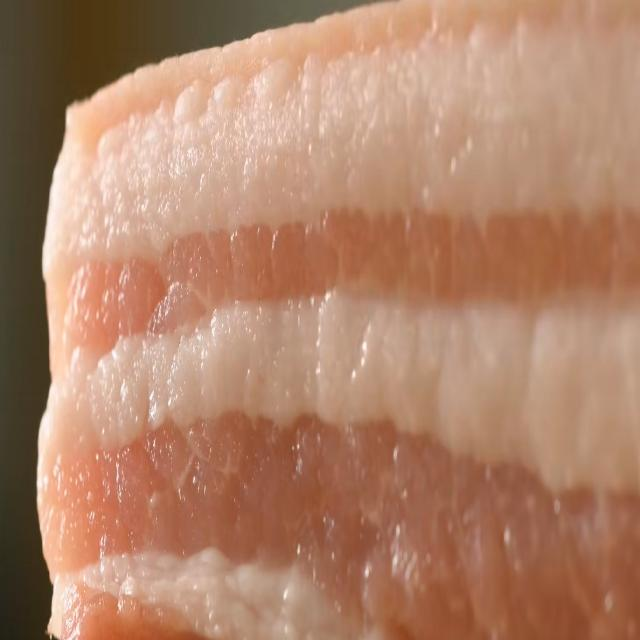pork: (30, 71, 640, 638)
